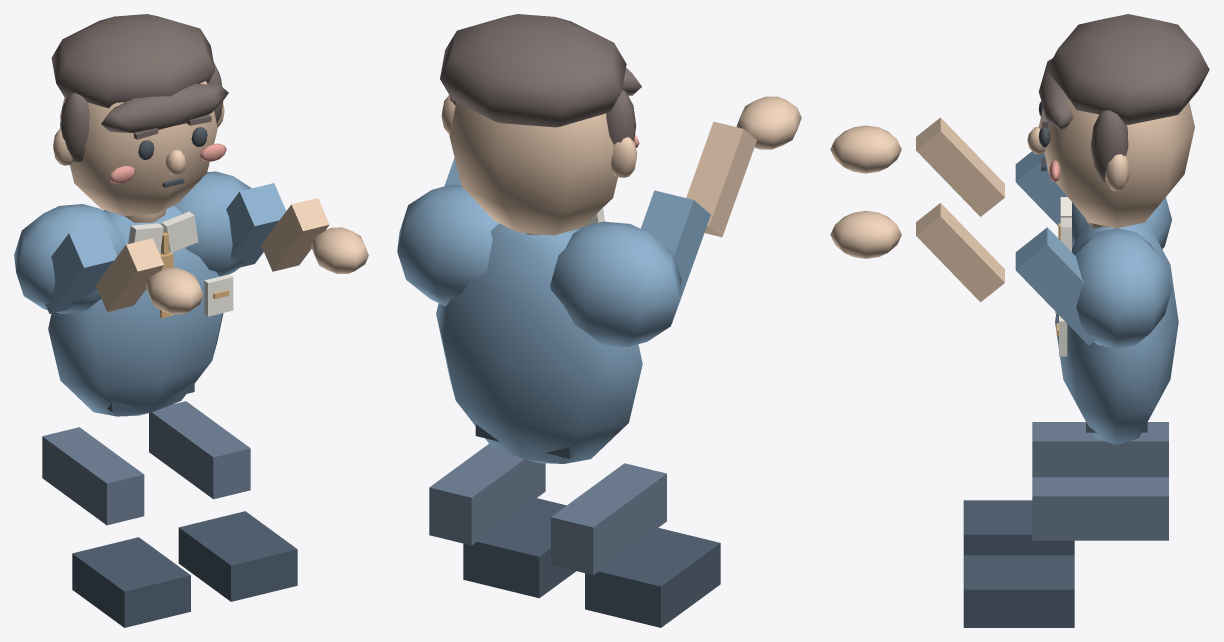
File: employee-base.glb
The picture shows the model from 3 angles, left to right: view 1: azimuth 30°, elevation 25°; view 2: azimuth 150°, elevation 25°; view 3: azimuth 270°, elevation 25°; orthographic projection. The views are drawn at different scales.
Visible parts, largest first — view 1: Jacket torso, Hair cap, Head, Right shoe, Left shoe, Left trouser leg, Right trouser leg, Left shoulder, Right shoulder, Left upper arm, Hair fringe, Right upper arm (+8 smaller); view 2: Jacket torso, Hair cap, Head, Left shoulder, Left shoe, Left trouser leg, Right shoulder, Right trouser leg, Right shoe, Left forearm, Left upper arm, Left hand (+2 smaller); view 3: Hair cap, Jacket torso, Head, Right shoulder, Right trouser leg, Right shoe, Left trouser leg, Left shoe, Right upper arm, Right forearm, Left forearm, Right hand (+6 smaller).
Boxes of the visible parts, bbox=[...] form: Jacket torso: bbox=[48, 205, 223, 416]; Hair cap: bbox=[51, 14, 215, 108]; Head: bbox=[60, 81, 217, 215]; Right shoe: bbox=[178, 511, 297, 601]; Left shoe: bbox=[72, 537, 190, 627]; Left trouser leg: bbox=[42, 427, 144, 525]; Right trouser leg: bbox=[149, 401, 250, 499]; Left shoulder: bbox=[14, 204, 125, 313]; Right shoulder: bbox=[174, 171, 251, 276]; Left upper arm: bbox=[45, 224, 117, 313]; Hair fringe: bbox=[101, 83, 228, 132]; Right upper arm: bbox=[226, 183, 285, 268]; Jacket torso: bbox=[436, 223, 642, 463]; Hair cap: bbox=[440, 14, 626, 127]; Head: bbox=[449, 102, 617, 235]; Left shoulder: bbox=[550, 221, 681, 347]; Left shoe: bbox=[585, 528, 720, 627]; Left trouser leg: bbox=[551, 463, 666, 575]; Right shoulder: bbox=[397, 184, 499, 306]; Right trouser leg: bbox=[429, 444, 545, 545]; Right shoe: bbox=[463, 498, 576, 598]; Left forearm: bbox=[686, 121, 756, 237]; Left upper arm: bbox=[640, 190, 710, 324]; Left hand: bbox=[736, 96, 801, 149]; Hair cap: bbox=[1047, 14, 1209, 124]; Jacket torso: bbox=[1055, 220, 1178, 444]; Head: bbox=[1039, 97, 1194, 228]; Right shoulder: bbox=[1075, 228, 1172, 348]; Right trouser leg: bbox=[1032, 477, 1168, 540]; Right shoe: bbox=[963, 555, 1074, 627]; Left trouser leg: bbox=[1032, 422, 1168, 477]; Left shoe: bbox=[963, 500, 1074, 555]; Right upper arm: bbox=[1015, 227, 1097, 345]; Right forearm: bbox=[916, 203, 1004, 302]; Left forearm: bbox=[916, 117, 1004, 216]; Right hand: bbox=[830, 211, 901, 258].
Size of the model in its own units: 0.92 by 1.88 by 1.17.
